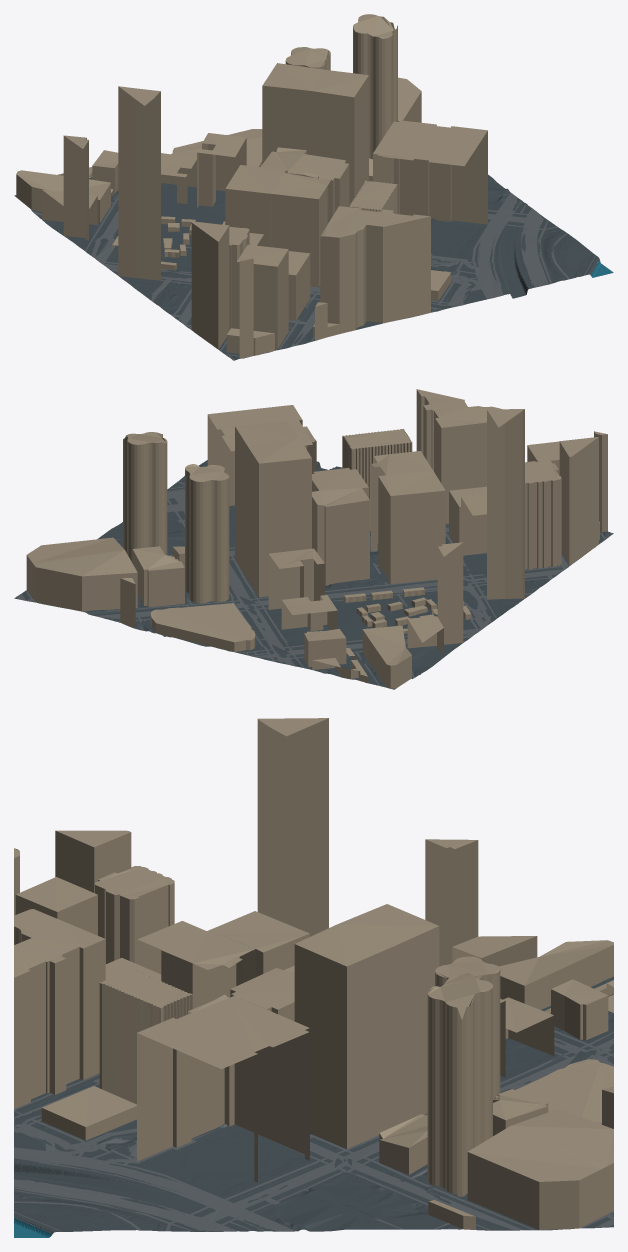
File: epsg26910-1441-10892.lod0.grid-ownership-preview.glb
The picture shows the model from 3 angles, top to bottom: view 1: azimuth 30°, elevation 25°; view 2: azimuth 150°, elevation 25°; view 3: azimuth 270°, elevation 25°; orthographic projection. The views are drawn at different scales.
Visible parts, largest first — view 1: epsg26910-1441-10892-lod0; view 2: epsg26910-1441-10892-lod0; view 3: epsg26910-1441-10892-lod0.
Part boxes in pixels (x1,y1,x2,y2): epsg26910-1441-10892-lod0: [14, 14, 613, 360]; epsg26910-1441-10892-lod0: [14, 389, 613, 689]; epsg26910-1441-10892-lod0: [14, 718, 613, 1237].
Size of the model in its own units: 384 by 197 by 384.
